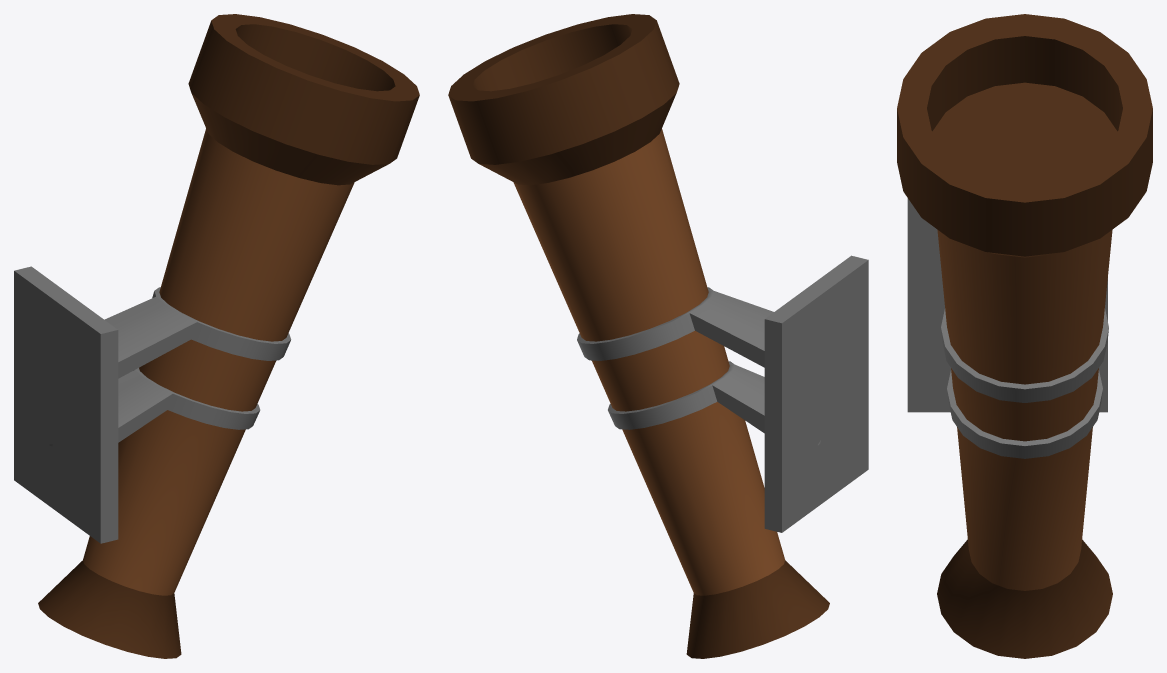
The model's file is walltorchtextured.fbx.
The picture shows the model from 3 angles, left to right: view 1: azimuth 30°, elevation 25°; view 2: azimuth 150°, elevation 25°; view 3: azimuth 270°, elevation 25°; orthographic projection. The views are drawn at different scales.
Visible parts, largest first — view 1: pCylinder1; view 2: pCylinder1; view 3: pCylinder1.
Part boxes in pixels (box(x1,y1,x2,y2)): pCylinder1: box(14, 14, 419, 658); pCylinder1: box(448, 14, 868, 658); pCylinder1: box(897, 14, 1152, 658).
Bounding box in the file's own units: 7.1 × 11.18 × 3.83.
